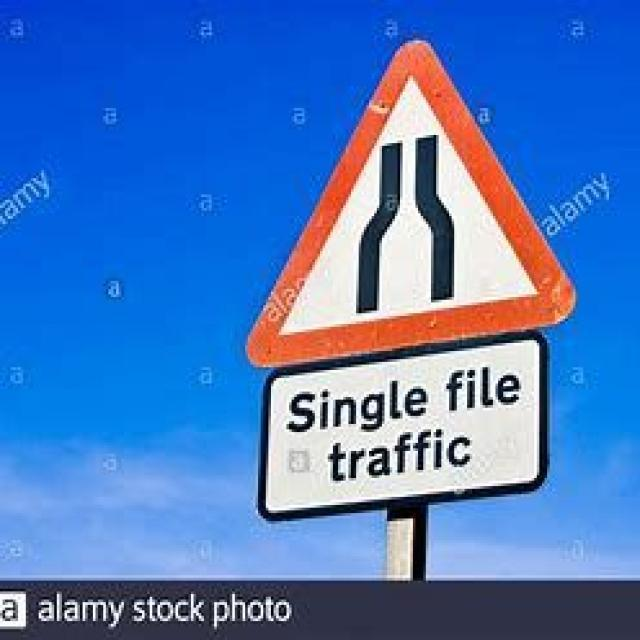narrow road ahead: (240, 39, 578, 368)
